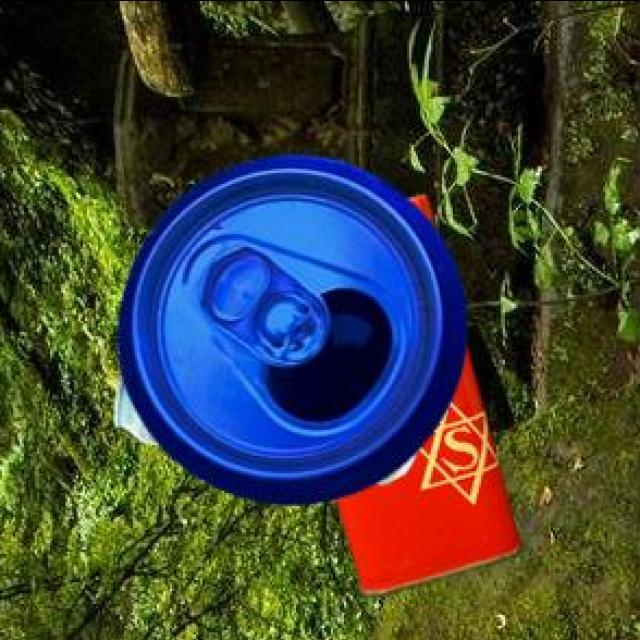logam: (114, 158, 465, 506), (332, 197, 519, 600), (112, 391, 413, 487)
